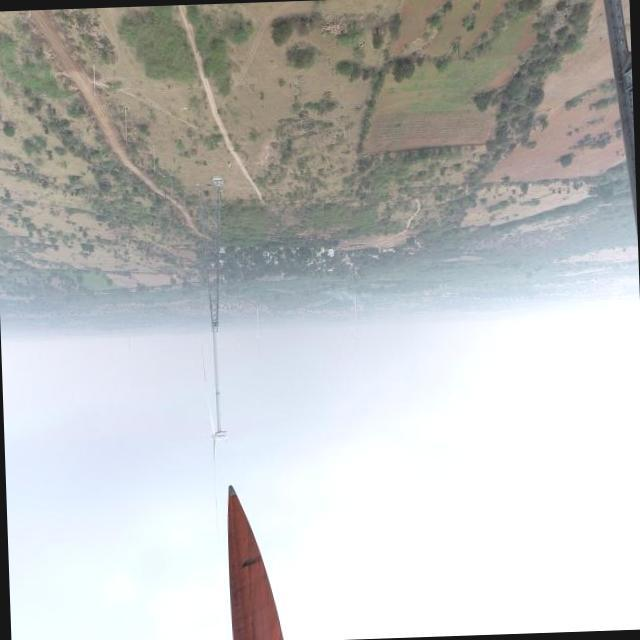Dirt: (225, 484, 286, 640)
Pin Hole: (239, 558, 250, 568)
